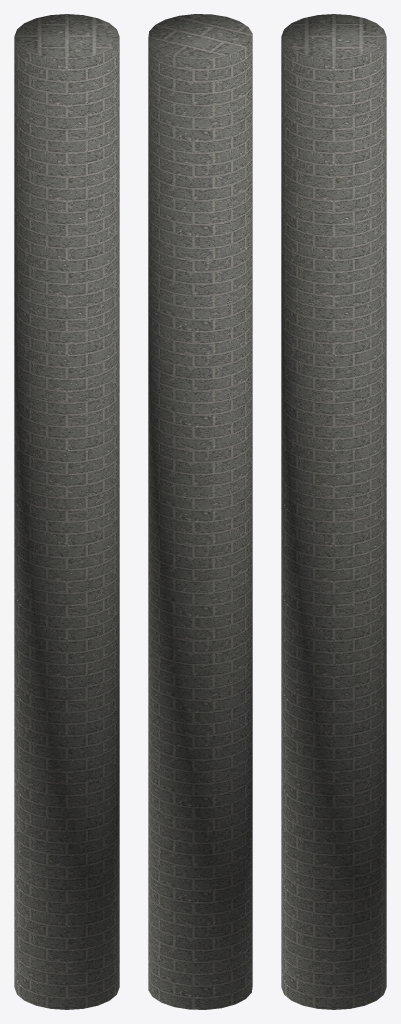
Rendered from Pillar.gltf.
The picture shows the model from 3 angles, left to right: view 1: azimuth 90°, elevation 25°; view 2: azimuth 150°, elevation 25°; view 3: azimuth 270°, elevation 25°; orthographic projection.
Visible parts, largest first — view 1: Cylinder.001; view 2: Cylinder.001; view 3: Cylinder.001.
Part boxes in pixels (x1,y1,x2,y2): Cylinder.001: (14,14,119,1009); Cylinder.001: (148,14,252,1009); Cylinder.001: (281,14,386,1009).
Bounding box in the file's own units: 4 × 40 × 4.
1 material, 1 textured.
